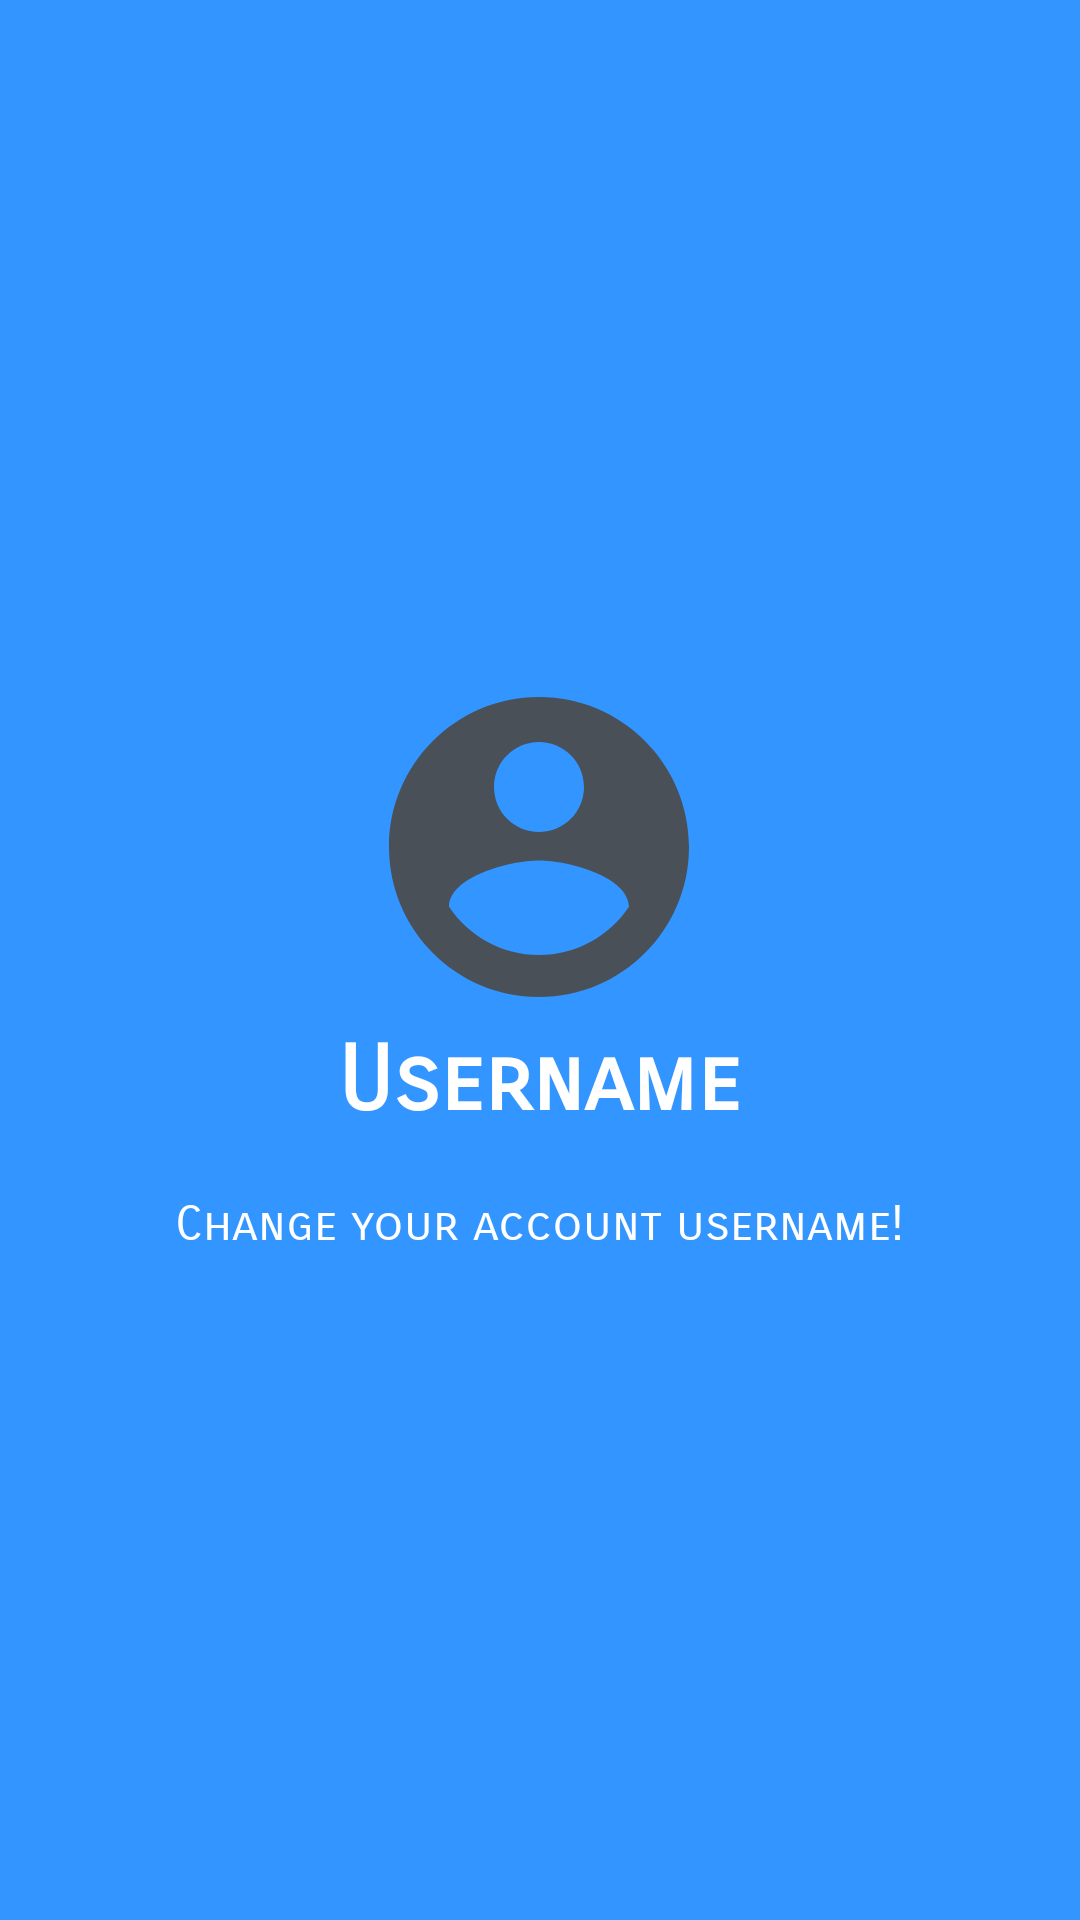

Screen size 1080w x 1920h. Icon name, then its center in pixels as point (x, y):
account circle: point (539, 847)
